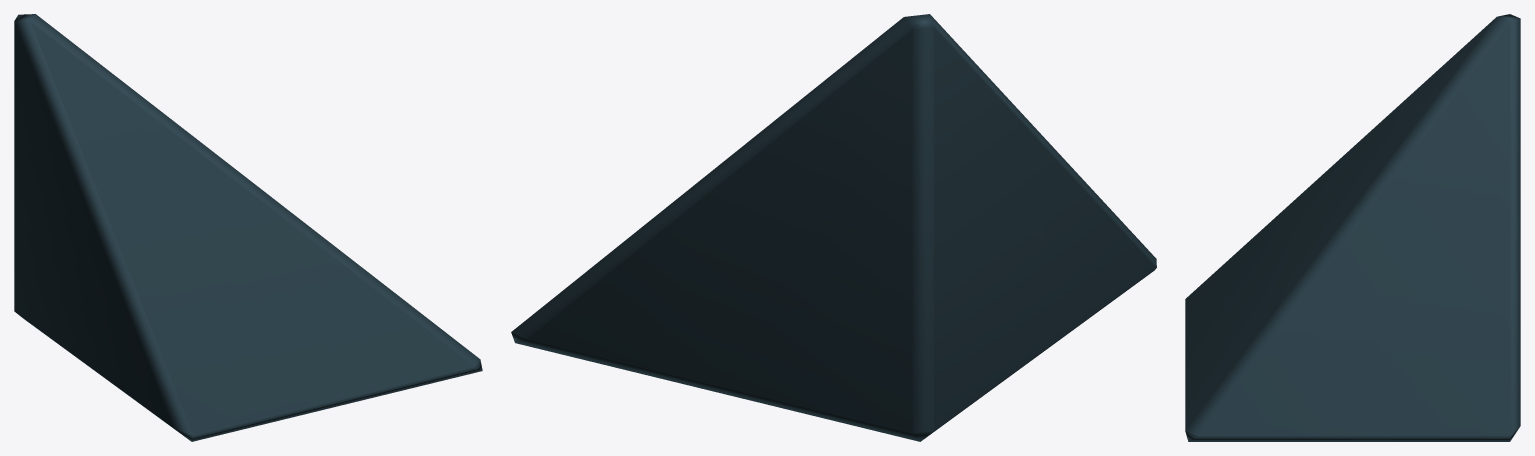
File: ramp_convex_hue_5.fbx
3 views of the same model, side by side, from view 1: azimuth 30°, elevation 25°; view 2: azimuth 150°, elevation 25°; view 3: azimuth 270°, elevation 25° (orthographic). The views are drawn at different scales.
Parts seen in each view (by area): view 1: ramp_convex_hue_5; view 2: ramp_convex_hue_5; view 3: ramp_convex_hue_5.
Boxes of the visible parts, x1=… form: ramp_convex_hue_5: x1=14, y1=14, x2=482, y2=441; ramp_convex_hue_5: x1=511, y1=14, x2=1156, y2=441; ramp_convex_hue_5: x1=1185, y1=14, x2=1520, y2=441.
Size of the model in its own units: 97.79 by 93.05 by 97.79.
